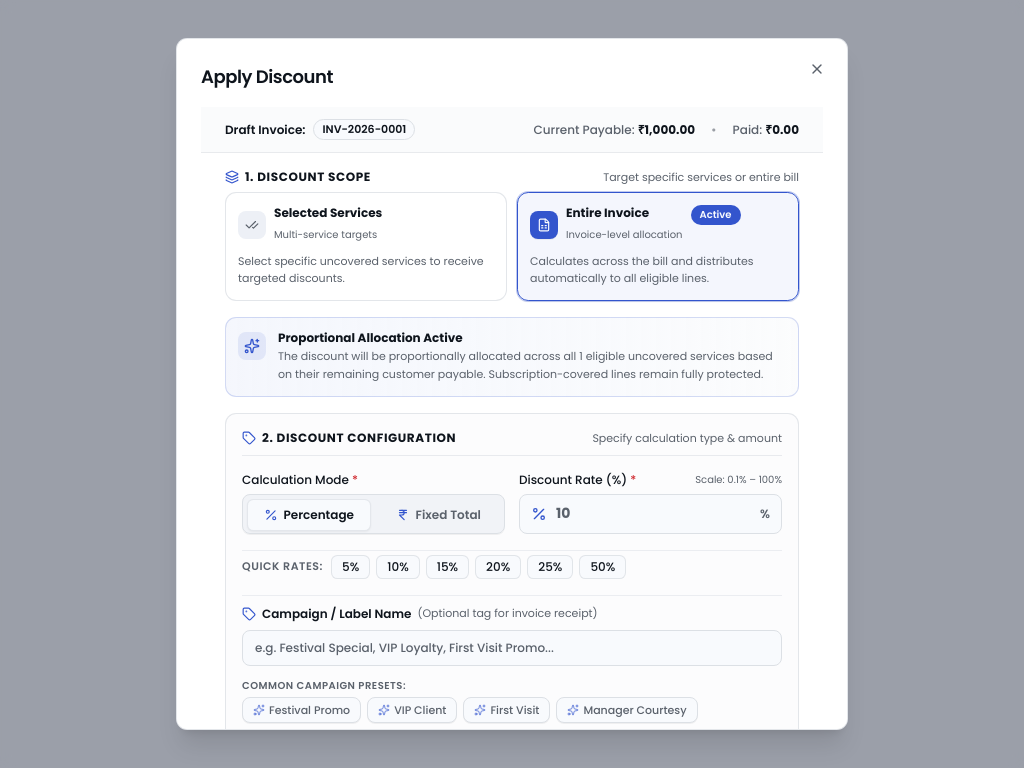
Test: Billing Discounts — UI Components & Flow Verification › ApplyDiscountDialog › renders scope buttons, multi-line selection, and excludes subscription covered lines
Expected: the heading "Apply Discount" is shown, [201,64,333,89]
Expected: the button "Entire Invoice" is shown, [517,192,799,301]
# Click Selected Services
Click the button "Selected Services": x=328, y=212 [225,192,507,301]
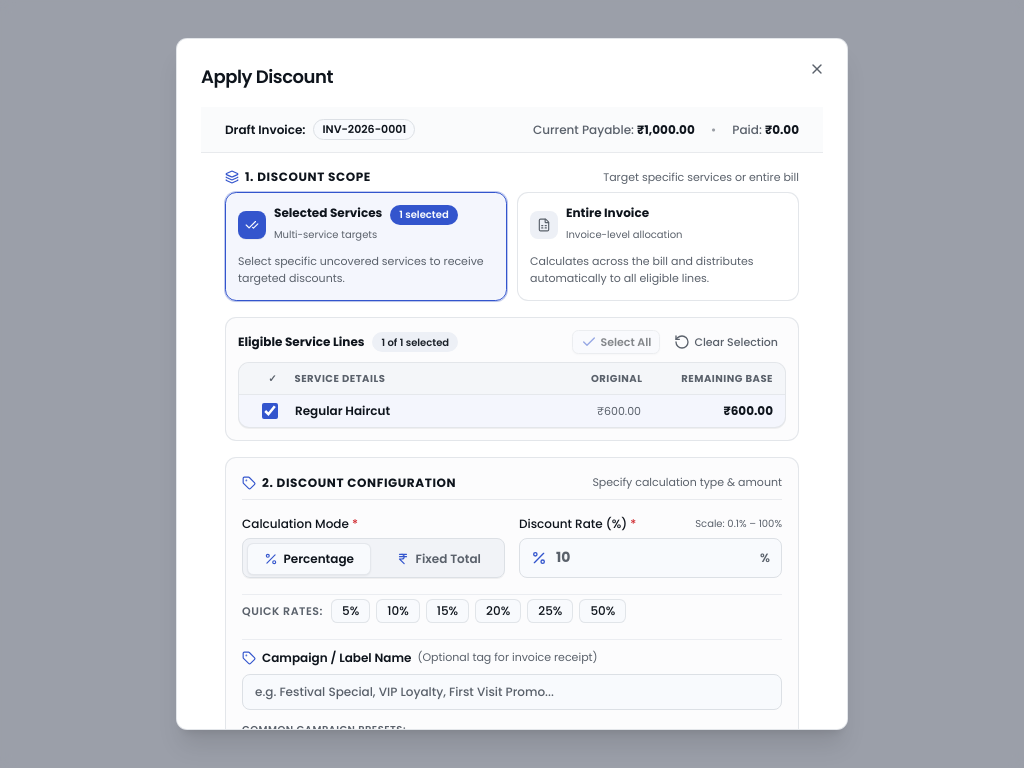
Expected: the text "Regular Haircut" is shown, [295,402,390,419]
